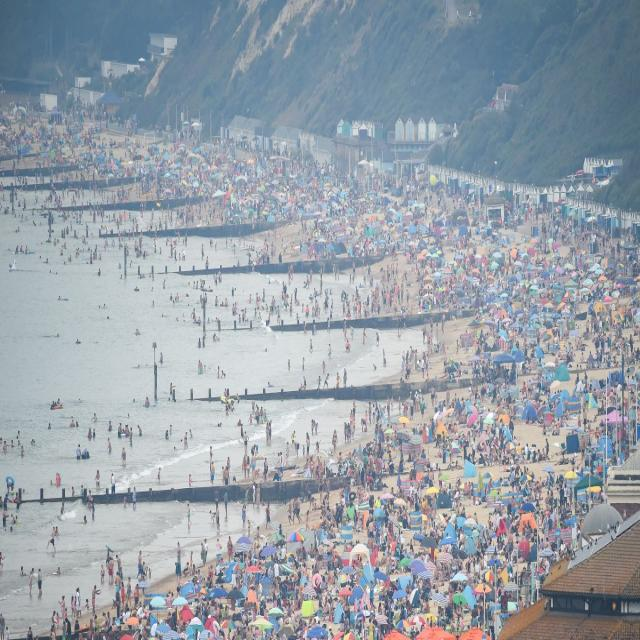human: (271, 393, 390, 537), (114, 215, 220, 334), (174, 552, 307, 640), (343, 384, 418, 500), (487, 453, 568, 559), (334, 554, 406, 637), (575, 297, 636, 386), (538, 482, 600, 565), (422, 384, 484, 463), (164, 265, 224, 343), (459, 403, 526, 470), (354, 494, 410, 574), (102, 552, 150, 628), (96, 412, 146, 481), (361, 256, 404, 330), (330, 395, 381, 454), (233, 405, 274, 469), (58, 581, 106, 635), (295, 280, 334, 342), (2, 471, 26, 530), (239, 499, 267, 539), (401, 344, 428, 384), (125, 550, 148, 588), (1, 429, 32, 456), (116, 416, 139, 444), (77, 490, 96, 520), (46, 526, 59, 552), (493, 610, 502, 640), (92, 585, 99, 617), (50, 611, 57, 637), (166, 590, 174, 612), (138, 551, 144, 580), (60, 596, 67, 620), (86, 491, 94, 512), (116, 555, 122, 583), (176, 547, 182, 575), (64, 616, 71, 640), (37, 570, 43, 596), (227, 537, 233, 562), (28, 569, 34, 593), (76, 588, 82, 612), (186, 504, 192, 527), (0, 613, 5, 640), (108, 560, 114, 582), (142, 562, 149, 580), (203, 539, 208, 564), (74, 619, 80, 639), (71, 594, 76, 616), (132, 487, 137, 509), (2, 509, 8, 527), (224, 490, 228, 517), (187, 474, 193, 491), (81, 448, 90, 459), (100, 565, 105, 583), (209, 510, 215, 525), (90, 502, 95, 520), (76, 444, 82, 459), (111, 473, 115, 495), (146, 564, 152, 578), (27, 626, 33, 640), (55, 610, 60, 626), (122, 447, 126, 466), (53, 526, 59, 538), (60, 502, 65, 515), (85, 599, 90, 612), (54, 566, 61, 575), (7, 625, 11, 640), (12, 518, 22, 524), (56, 473, 60, 486), (188, 474, 192, 486), (123, 496, 127, 508), (158, 467, 161, 482), (83, 515, 87, 524), (20, 566, 24, 575), (75, 339, 81, 344), (31, 439, 35, 444)
